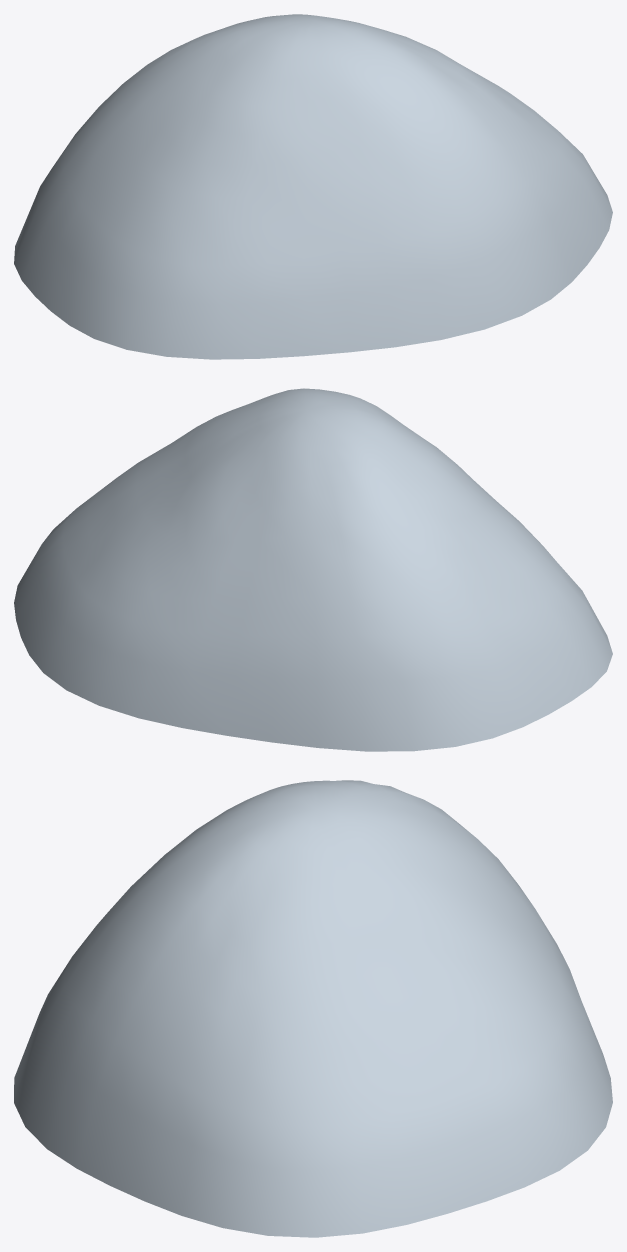
The model's file is snowdrift_03.glb.
3 views of the same model, one above another, from view 1: azimuth 30°, elevation 25°; view 2: azimuth 150°, elevation 25°; view 3: azimuth 270°, elevation 25° (orthographic). The views are drawn at different scales.
Visible parts, largest first — view 1: snowdrift_03__m9_snow; view 2: snowdrift_03__m9_snow; view 3: snowdrift_03__m9_snow.
Boxes of the visible parts, x1,y1,x2,y2 form: snowdrift_03__m9_snow: (14,14,612,359); snowdrift_03__m9_snow: (14,388,612,751); snowdrift_03__m9_snow: (14,780,612,1237).
Size of the model in its own units: 2.54 by 1.02 by 2.06.
